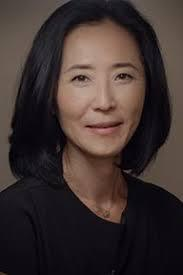normalEye: (64, 60, 142, 88)
normalMouth: (83, 116, 126, 138)
